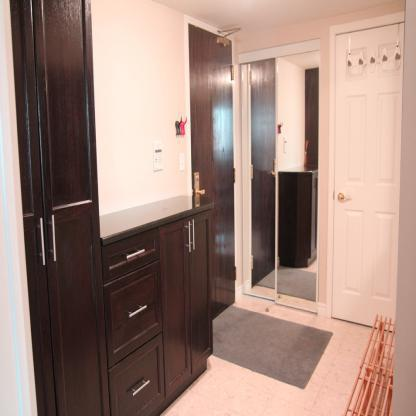door: (332, 31, 402, 328), (186, 19, 239, 314), (249, 59, 277, 287)
hinged: (251, 252, 254, 272), (233, 166, 236, 185), (249, 68, 252, 86), (231, 64, 234, 81), (251, 163, 254, 179), (235, 265, 236, 281)
lever: (339, 194, 352, 204), (198, 187, 207, 197), (268, 168, 276, 177)
